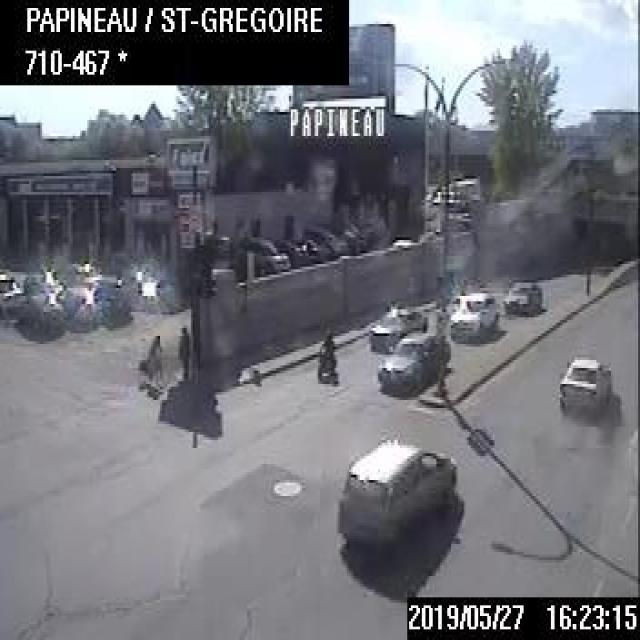cyclist: (133, 328, 162, 392)
pedestrian: (176, 320, 188, 376)
vehicle: (331, 435, 458, 552), (372, 329, 449, 397), (555, 349, 609, 411), (444, 284, 500, 343), (365, 299, 428, 351), (15, 290, 64, 342), (235, 236, 291, 277), (93, 272, 131, 322), (502, 274, 544, 318), (304, 224, 351, 256), (314, 328, 336, 384), (270, 235, 309, 266), (0, 272, 24, 315)
